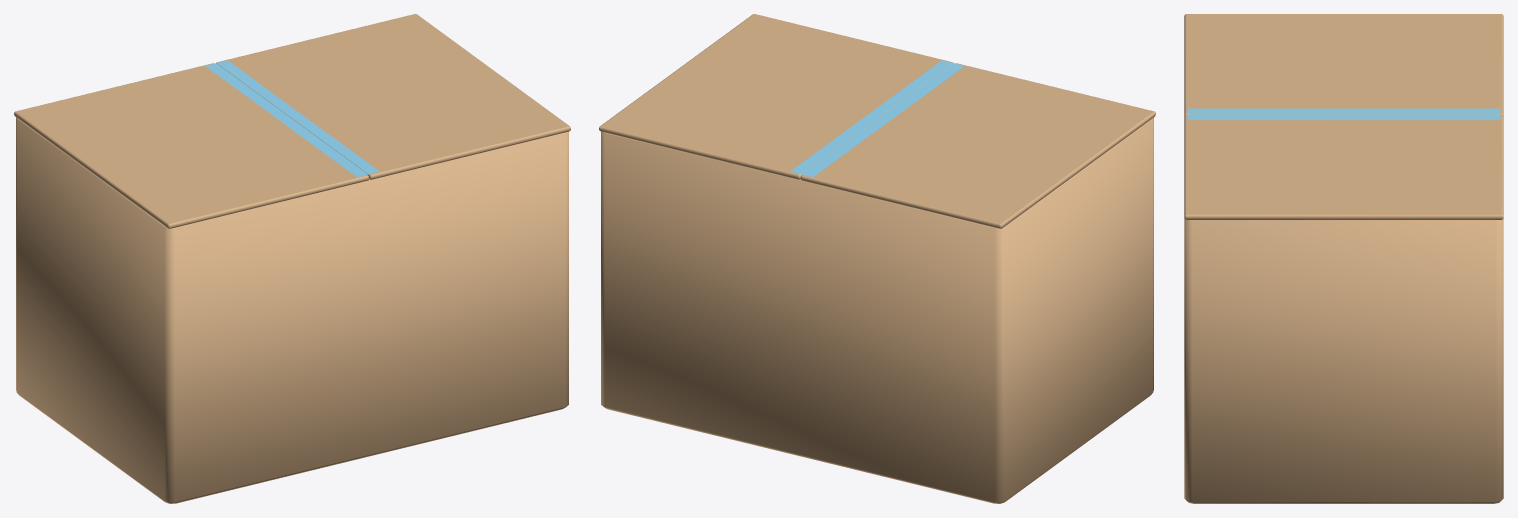
Rendered from box_large.glb.
The picture shows the model from 3 angles, left to right: view 1: azimuth 30°, elevation 25°; view 2: azimuth 150°, elevation 25°; view 3: azimuth 270°, elevation 25°; orthographic projection. The views are drawn at different scales.
Parts seen in each view (by area): view 1: Body, Lid_L, Lid_R; view 2: Body, Lid_L, Lid_R; view 3: Body, Lid_R, Lid_L.
Boxes of the visible parts, x1,y1,x2,y2 form: Body: (16, 117, 568, 503); Lid_L: (14, 63, 368, 228); Lid_R: (216, 14, 570, 179); Body: (601, 117, 1153, 503); Lid_L: (801, 63, 1155, 228); Lid_R: (599, 14, 953, 179); Body: (1184, 218, 1503, 503); Lid_R: (1184, 114, 1503, 219); Lid_L: (1184, 14, 1503, 116).
Bounding box in the file's own units: 0.9003 × 0.6 × 0.6.
3 materials, 3 textured.
